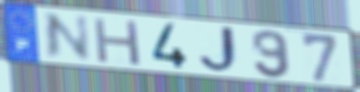4: (150, 21, 191, 71)
7: (300, 31, 341, 85)
9: (250, 28, 293, 81)
H: (91, 16, 143, 68)
J: (197, 25, 244, 75)
N: (43, 12, 93, 62)
